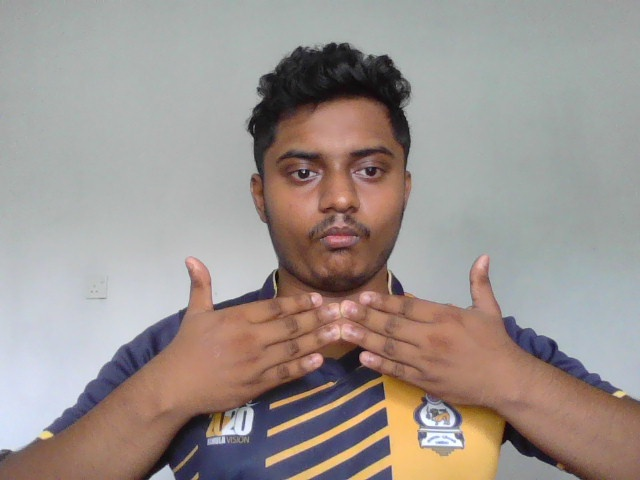Thank You: (163, 253, 516, 419)
